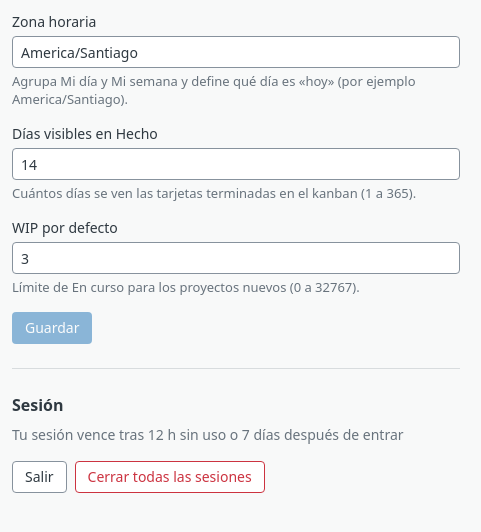
Test: Ajustes (4.8) › valida rangos: Zona horaria = Marte/Olympus no se envía
Replace the text in the field labelled "Zona horaria" with "Marte/Olympus" at [236, 52], box [12,36,460,68]
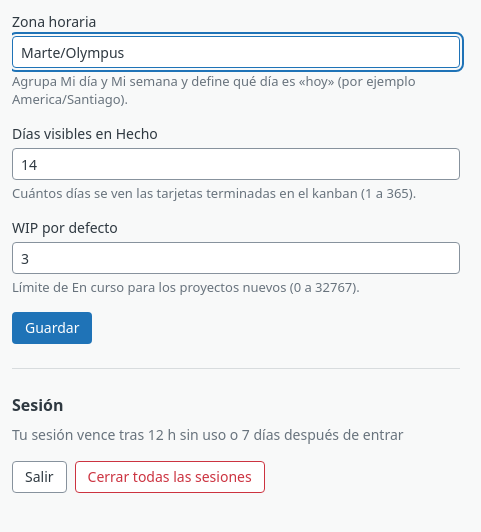
Click the button "Guardar" at [52, 328], box [12,312,92,344]
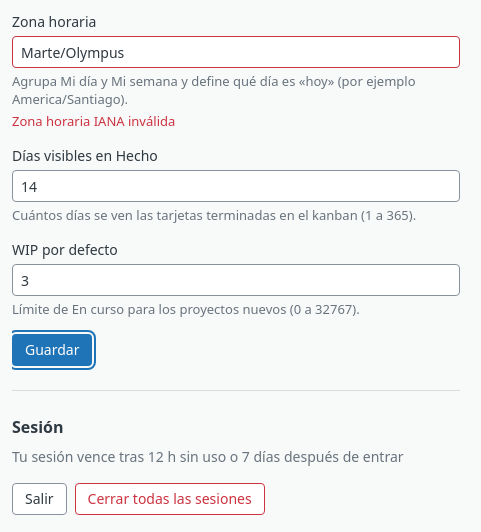
Result: the message shows "inválida" at [12,112,175,130]
